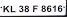character: (2, 4, 9, 13), (9, 5, 16, 12), (17, 4, 23, 12), (23, 4, 29, 12), (32, 4, 38, 12), (40, 4, 46, 12), (56, 4, 62, 12), (46, 4, 51, 12), (51, 4, 56, 12)
